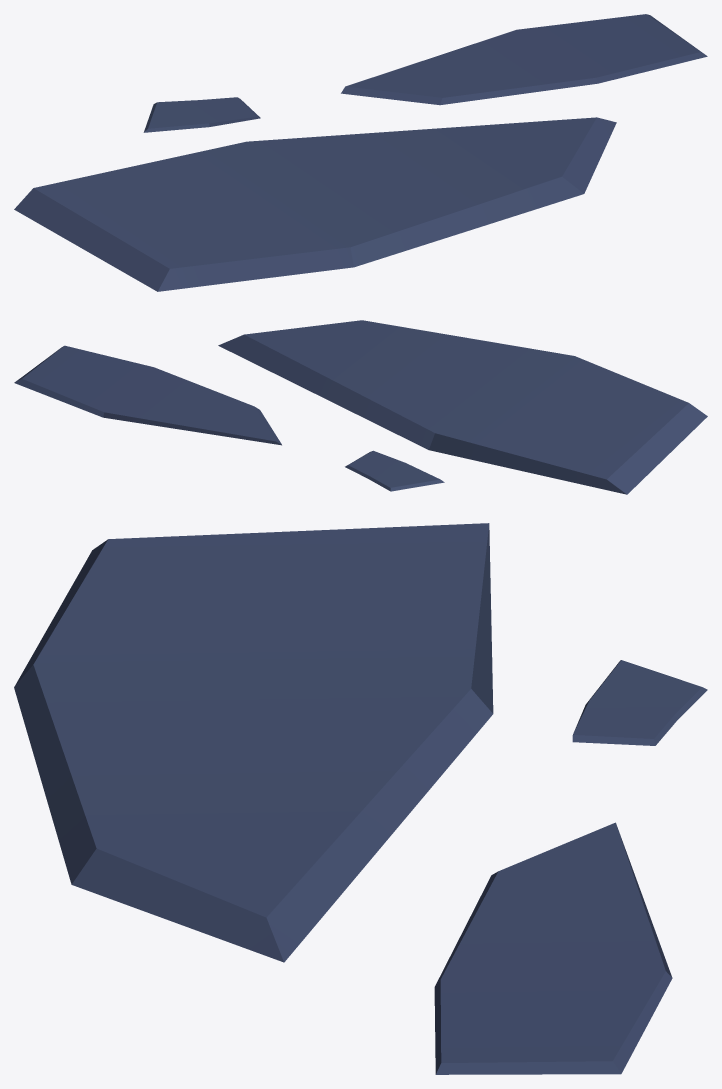
Rendered from FRock_Small1.fbx.
3 views of the same model, one above another, from view 1: azimuth 30°, elevation 25°; view 2: azimuth 150°, elevation 25°; view 3: azimuth 270°, elevation 25° (orthographic). The views are drawn at different scales.
Parts seen in each view (by area): view 1: rocks_small_1.001; view 2: rocks_small_1.001; view 3: rocks_small_1.001.
Boxes of the visible parts, box(x1,y1,x2,y2) form: rocks_small_1.001: box(14, 14, 707, 291); rocks_small_1.001: box(14, 320, 707, 494); rocks_small_1.001: box(14, 523, 707, 1074).
Bounding box in the file's own units: 312 × 7.49 × 169.
1 material, 1 textured.
